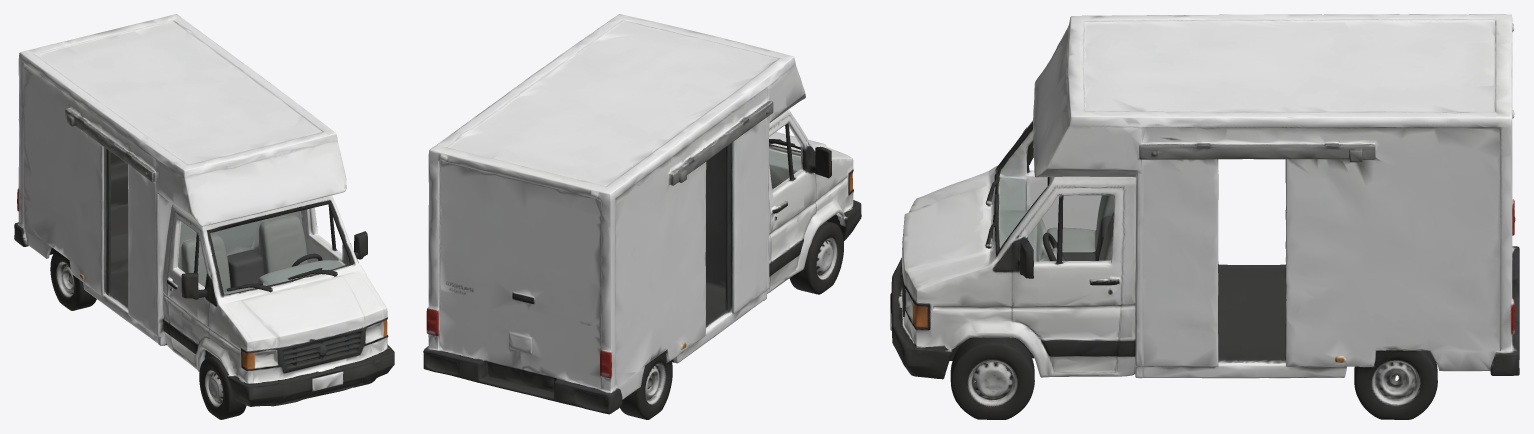
Rendered from van.glb.
The picture shows the model from 3 angles, left to right: view 1: azimuth 30°, elevation 25°; view 2: azimuth 150°, elevation 25°; view 3: azimuth 270°, elevation 25°; orthographic projection. The views are drawn at different scales.
Parts seen in each view (by area): view 1: geometry_0; view 2: geometry_0; view 3: geometry_0.
Boxes of the visible parts, <box> form: geometry_0: <box>14,14,394,419</box>; geometry_0: <box>423,14,861,419</box>; geometry_0: <box>890,14,1519,419</box>.
Bounding box in the file's own units: 2.2 × 2.57 × 4.8.
1 material, 1 textured.
